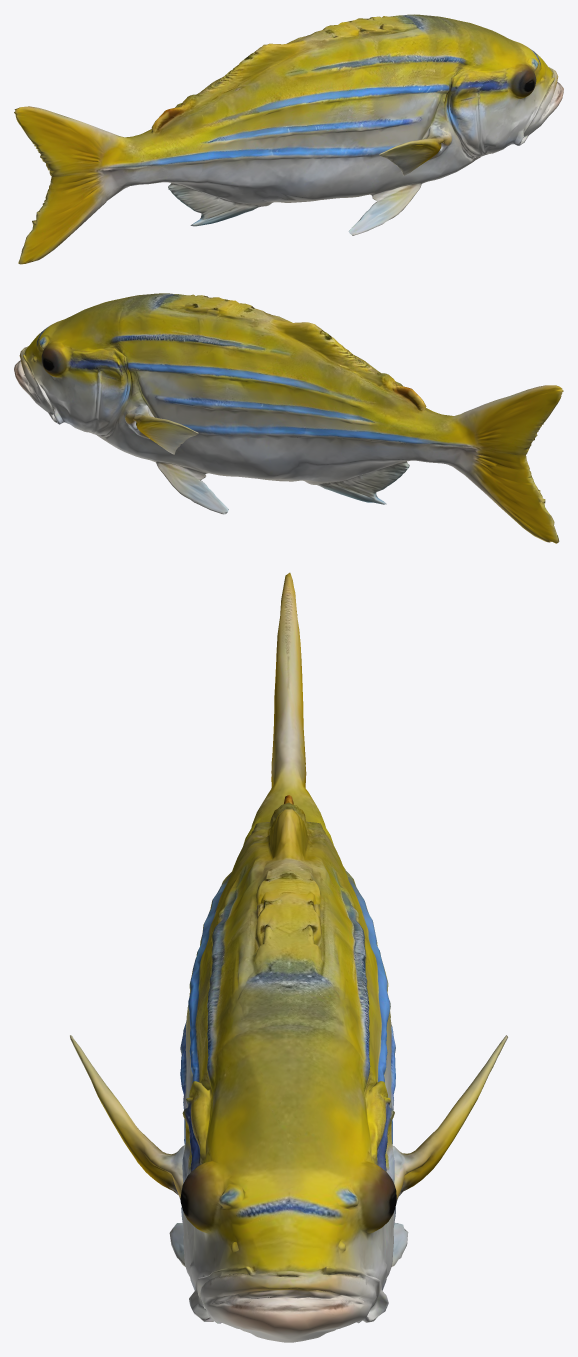
File: bluestriped_snapper.glb
The picture shows the model from 3 angles, top to bottom: view 1: azimuth 30°, elevation 25°; view 2: azimuth 150°, elevation 25°; view 3: azimuth 270°, elevation 25°; orthographic projection. The views are drawn at different scales.
Parts seen in each view (by area): view 1: bluestriped_snapperBody; view 2: bluestriped_snapperBody; view 3: bluestriped_snapperBody.
Part boxes in pixels (box(x1,y1,x2,y2)): bluestriped_snapperBody: box(14, 14, 563, 264); bluestriped_snapperBody: box(14, 293, 563, 543); bluestriped_snapperBody: box(70, 572, 507, 1342).
Bounding box in the file's own units: 1.05 × 0.3369 × 0.3634.
Materials: 1 (1 with a texture image).
